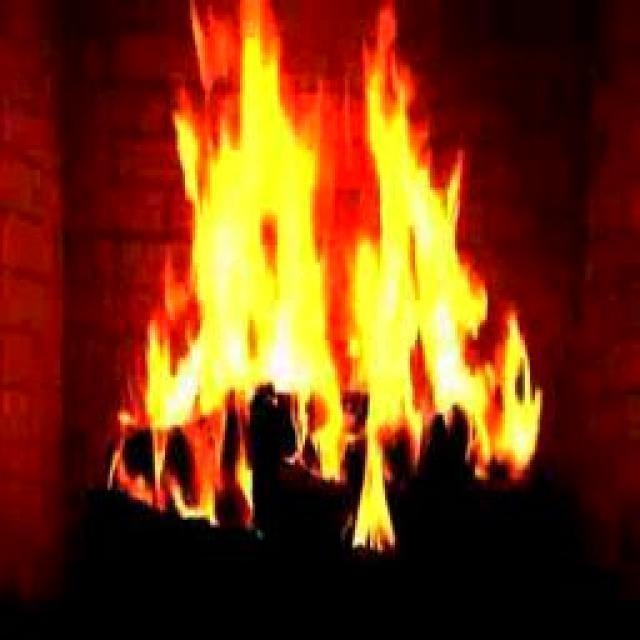fire: (100, 0, 533, 551)
